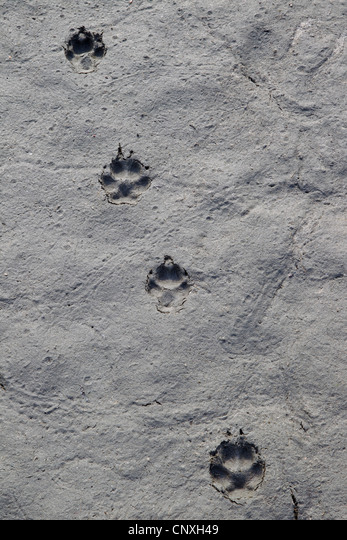fox: (208, 437, 271, 503), (103, 148, 153, 211), (139, 256, 199, 308), (61, 27, 107, 73)
